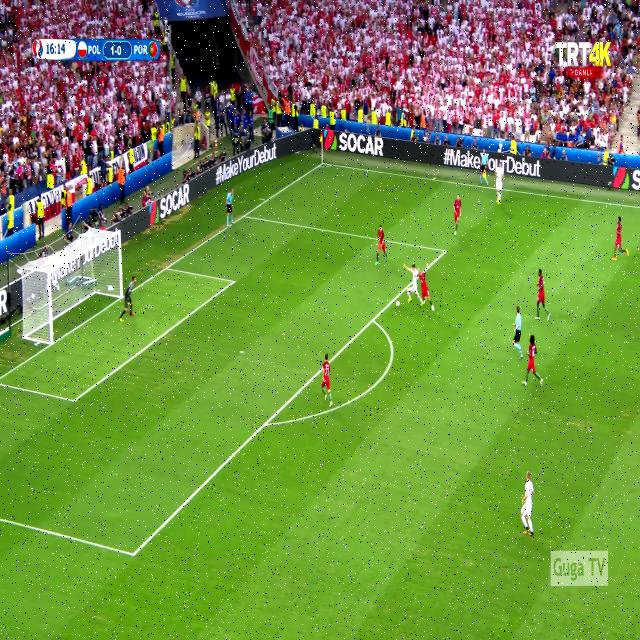Ball: (394, 296, 402, 310)
GoalKeeper: (118, 277, 140, 321)
TEAM 1: (608, 210, 637, 261), (526, 334, 547, 396), (319, 353, 339, 409), (420, 268, 442, 310), (537, 267, 552, 320), (375, 224, 389, 266), (451, 192, 464, 236)
TEAM 2: (516, 470, 540, 546), (401, 259, 424, 306), (492, 159, 507, 212)
